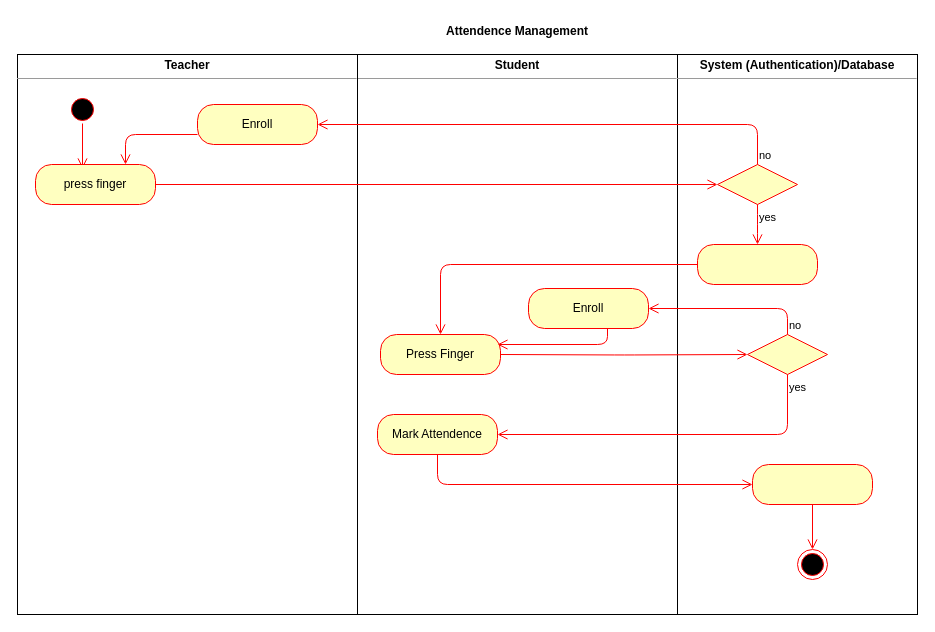
Image size: 935x632. Some labels were removed from this diagram. The shapes that lost their labels are listed below. From the top down, each one's centre as x and y in pixels, then its label:
[757,184]: Registered
[757,264]: Start Attendence Process
[787,354]: Enrolled
[812,484]: Store in Database
